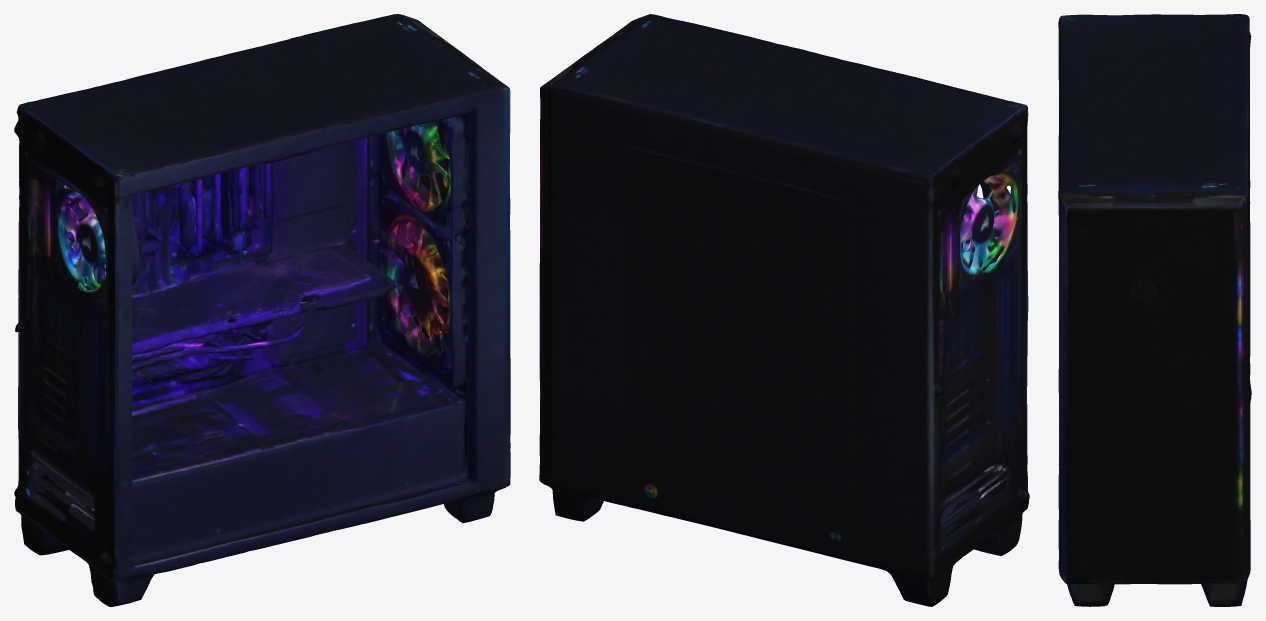
3 renders of one model, left to right at view 1: azimuth 30°, elevation 25°; view 2: azimuth 150°, elevation 25°; view 3: azimuth 270°, elevation 25°, orthographic. The views are drawn at different scales.
Visible parts, largest first — view 1: node_817b69a6_1d40_4b3e_a4d9_da52788ab1f5_mesh0; view 2: node_817b69a6_1d40_4b3e_a4d9_da52788ab1f5_mesh0; view 3: node_817b69a6_1d40_4b3e_a4d9_da52788ab1f5_mesh0.
Boxes of the visible parts, x1,y1,x2,y2 form: node_817b69a6_1d40_4b3e_a4d9_da52788ab1f5_mesh0: (14,14,510,606); node_817b69a6_1d40_4b3e_a4d9_da52788ab1f5_mesh0: (539,14,1029,606); node_817b69a6_1d40_4b3e_a4d9_da52788ab1f5_mesh0: (1058,14,1251,606).
Bounding box in the file's own units: 193 × 200 × 83.88.
1 material, 1 textured.
